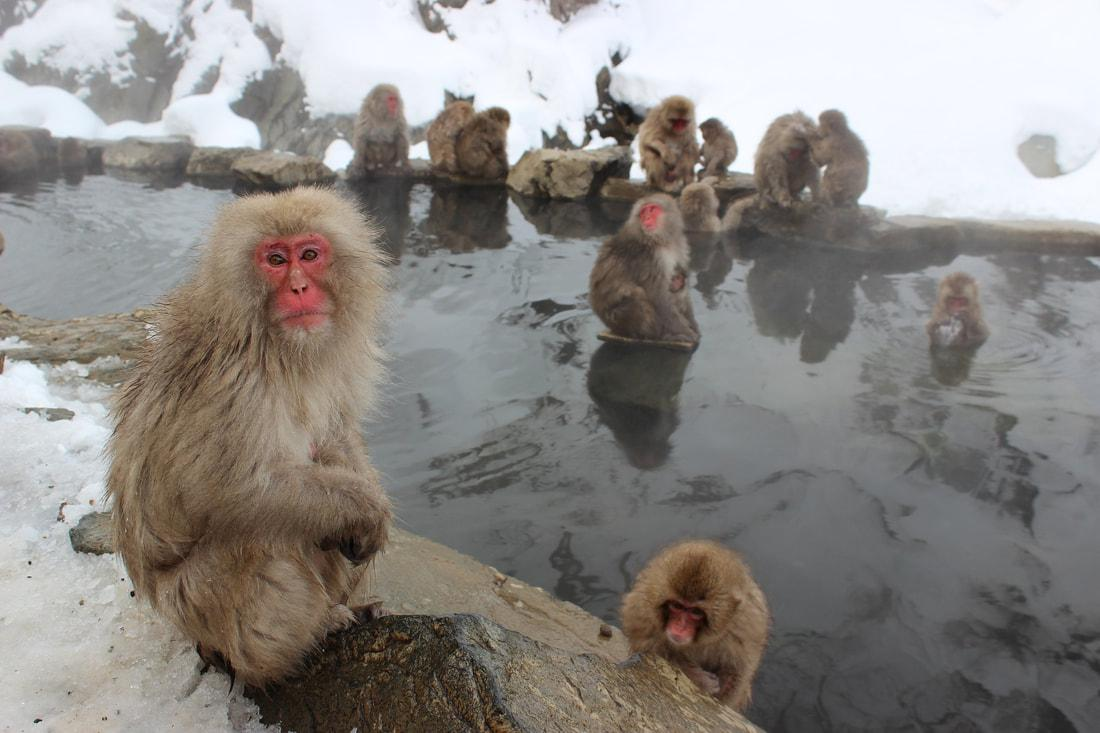monkey: (101, 164, 394, 693)
